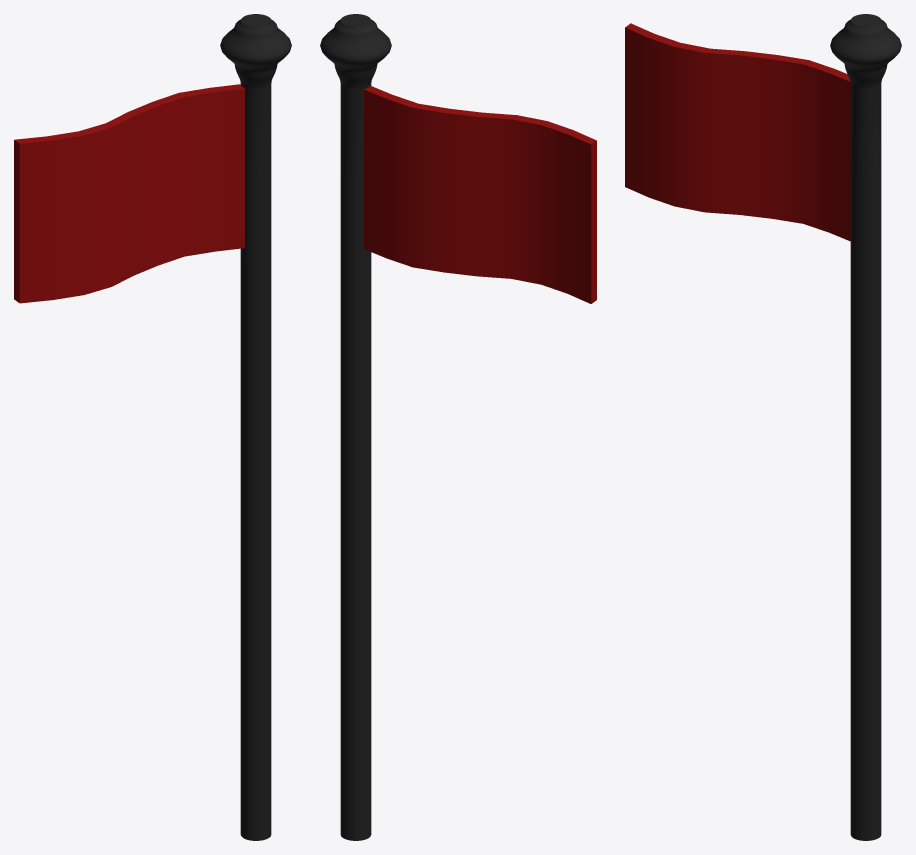
The model's file is Flag.FBX.
3 views of the same model, side by side, from view 1: azimuth 30°, elevation 25°; view 2: azimuth 150°, elevation 25°; view 3: azimuth 330°, elevation 25° (orthographic).
Parts seen in each view (by area): view 1: Flag; view 2: Flag; view 3: Flag.
Boxes of the visible parts, x1,y1,x2,y2 form: Flag: [14, 14, 291, 840]; Flag: [320, 14, 596, 840]; Flag: [625, 14, 901, 840].
Size of the model in its own units: 45.02 by 130 by 10.38.
